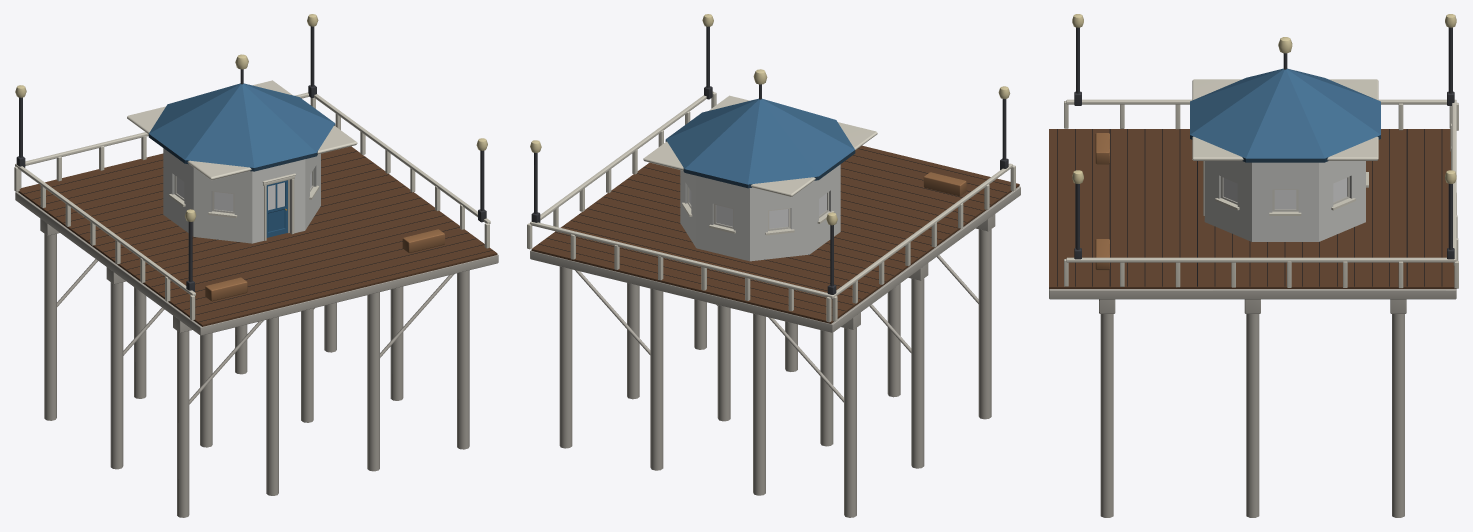
The model's file is PierEnd.fbx.
The picture shows the model from 3 angles, left to right: view 1: azimuth 30°, elevation 25°; view 2: azimuth 150°, elevation 25°; view 3: azimuth 270°, elevation 25°; orthographic projection. The views are drawn at different scales.
Visible parts, largest first — view 1: PierEnd; view 2: PierEnd; view 3: PierEnd.
Part boxes in pixels (x1=…): PierEnd: x1=14, y1=14, x2=498, y2=517; PierEnd: x1=527, y1=14, x2=1020, y2=517; PierEnd: x1=1049, y1=14, x2=1458, y2=517.
Bounding box in the file's own units: 13.16 × 15.25 × 14.08.
